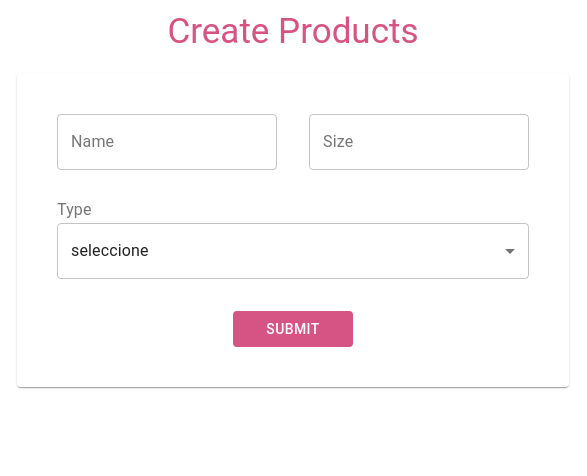
Test: when the user submits the form and the server returns an invalid request error › the form page must display the error message "connection error, please try later"
Click the button "Submit". click: [293, 329]
box: x1=233 y1=311 x2=353 y2=347
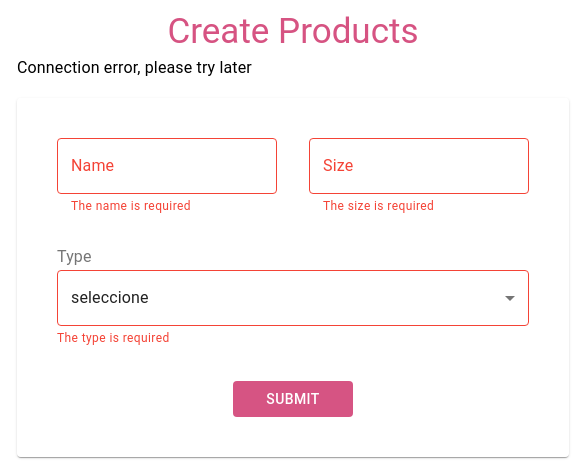
Expected: the text "Connection error, please try later" is shown, x1=17 y1=58 x2=252 y2=77
